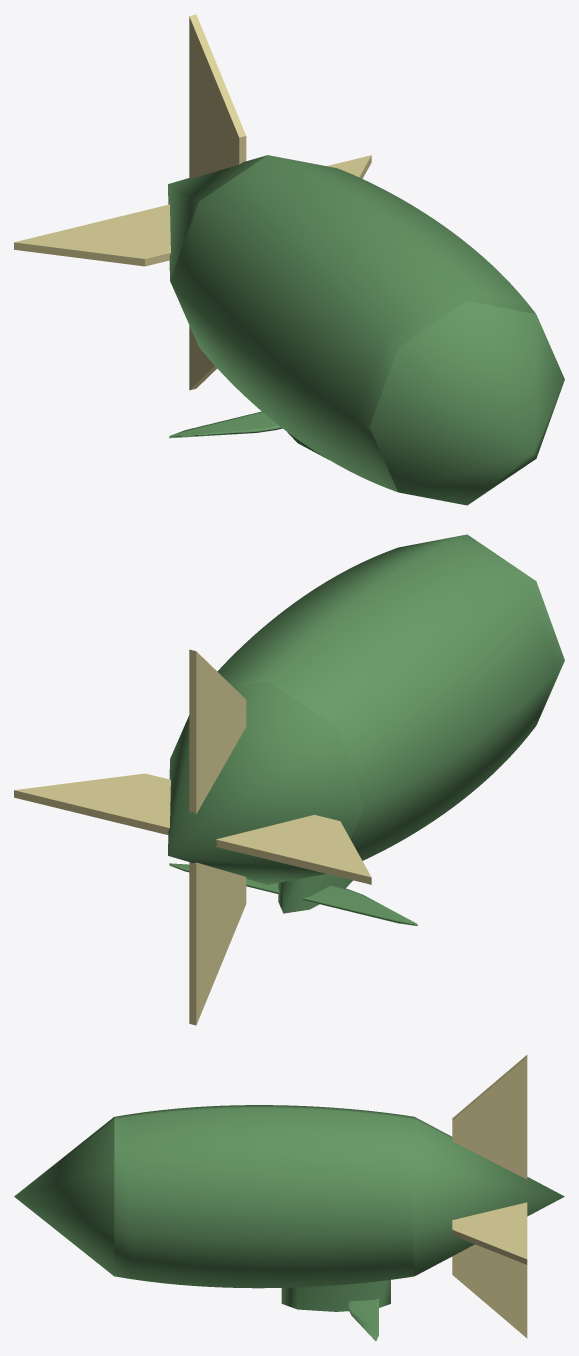
The model's file is Zeppelins.glb.
3 renders of one model, top to bottom at view 1: azimuth 30°, elevation 25°; view 2: azimuth 150°, elevation 25°; view 3: azimuth 270°, elevation 25°, orthographic. The views are drawn at different scales.
Parts seen in each view (by area): view 1: Root; view 2: Root; view 3: Root.
Boxes of the visible parts, left/top/right/bottom form: Root: left=14, top=14, right=564, bottom=505; Root: left=14, top=534, right=564, bottom=1025; Root: left=14, top=1055, right=564, bottom=1340.
Bounding box in the file's own units: 8.07 × 8.07 × 14.29.
